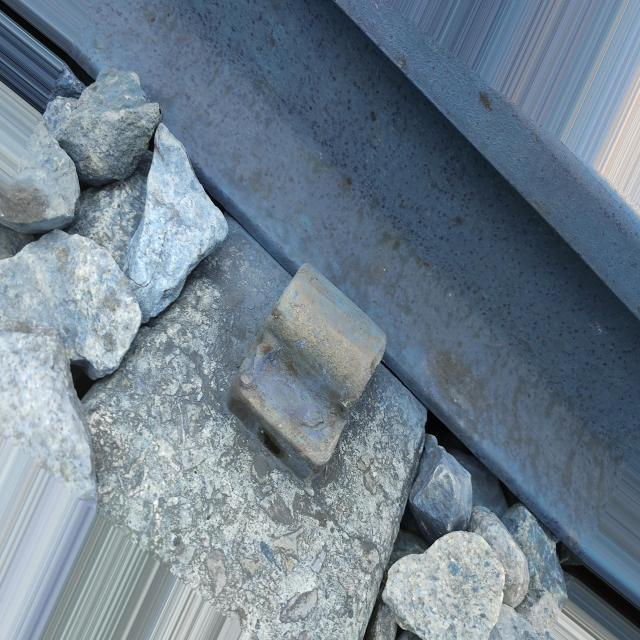Missing Fastener: (109, 237, 406, 500)
